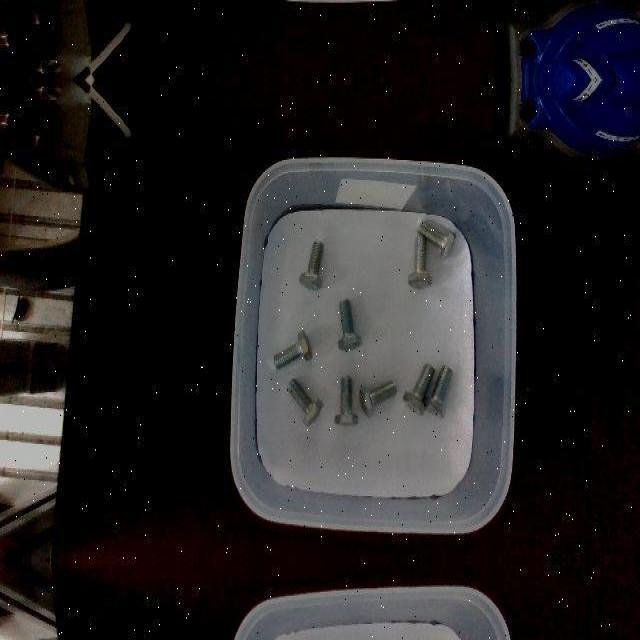screw: (402, 361, 436, 415), (287, 377, 323, 427), (416, 217, 456, 259), (424, 364, 453, 418), (274, 330, 313, 368), (359, 379, 398, 417), (299, 240, 324, 290), (337, 298, 361, 350), (409, 235, 432, 289), (334, 375, 358, 425)
